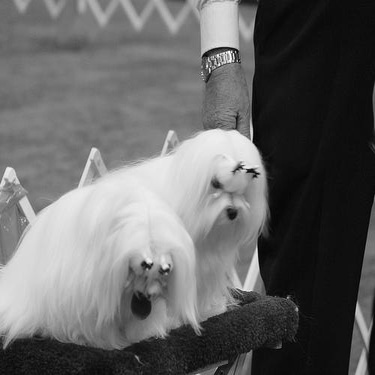dog: (108, 108, 279, 370), (3, 157, 208, 372)
